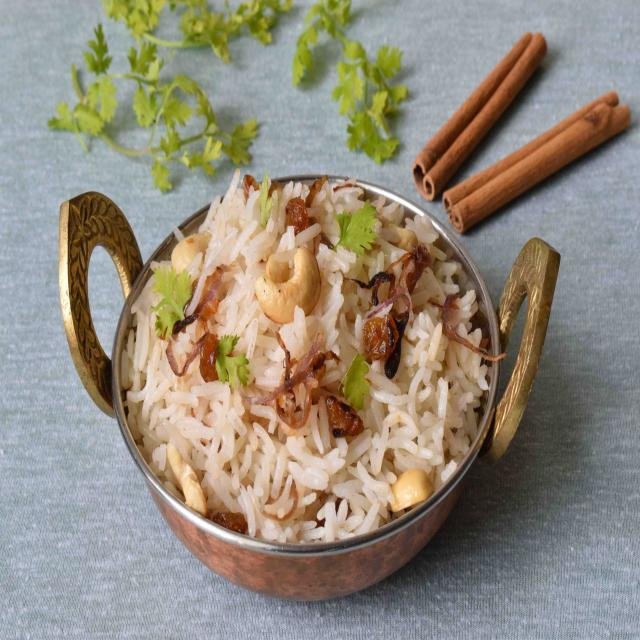nei satham: (128, 180, 523, 564)
